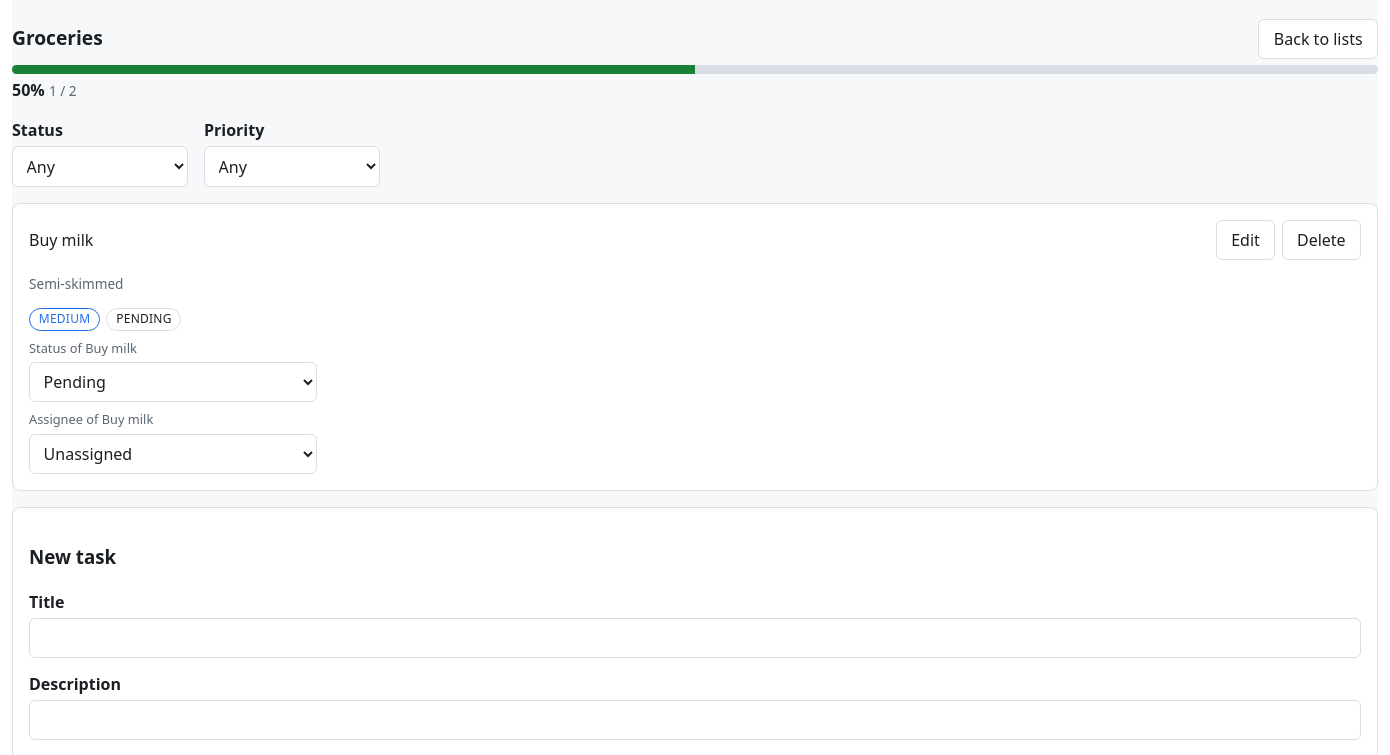
Test: changing a status › uses the dedicated status endpoint and re-reads the counters it changed
The width and height of the screenshot is (1390, 755).
Select "Completed" in the dropdown labelled "Status of Buy milk" at (173, 382), box left=29, top=362, right=317, bottom=402
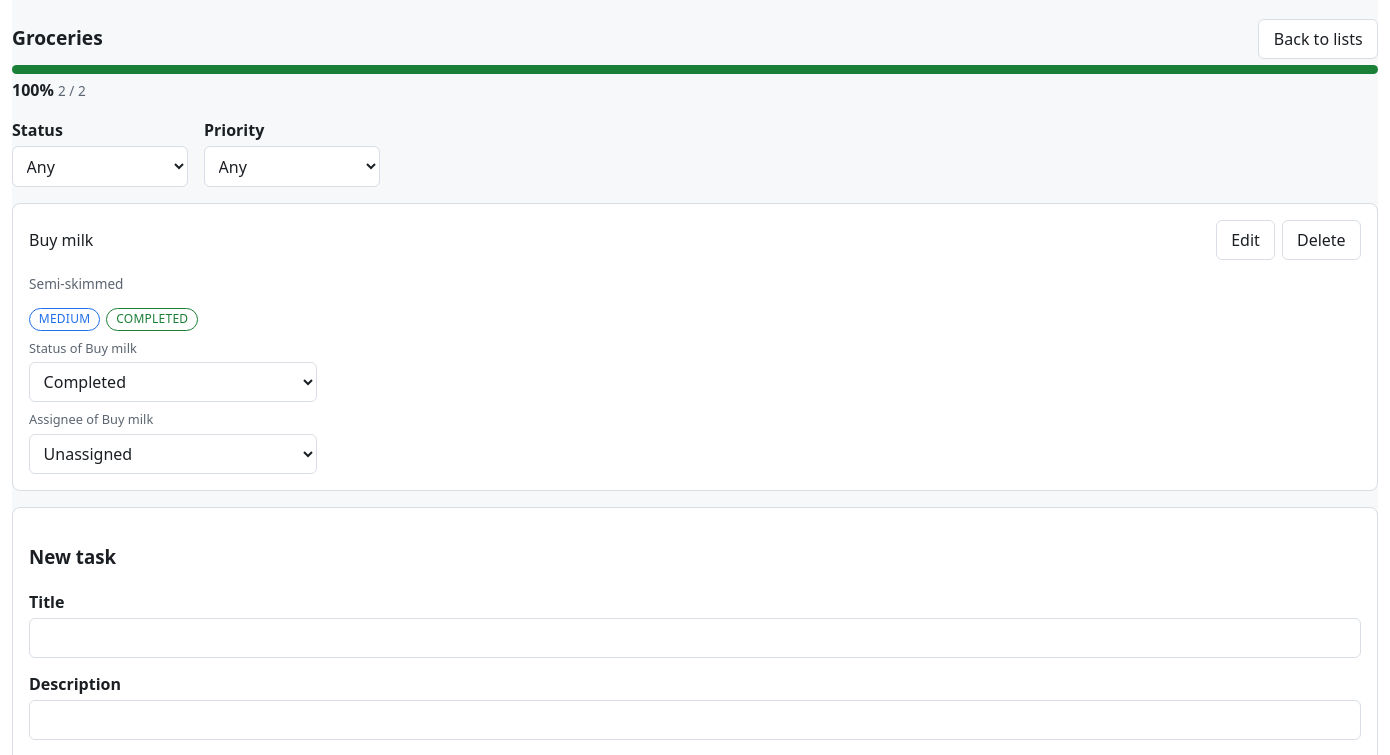
Result: the text "100%" is shown at left=12, top=79, right=54, bottom=101
